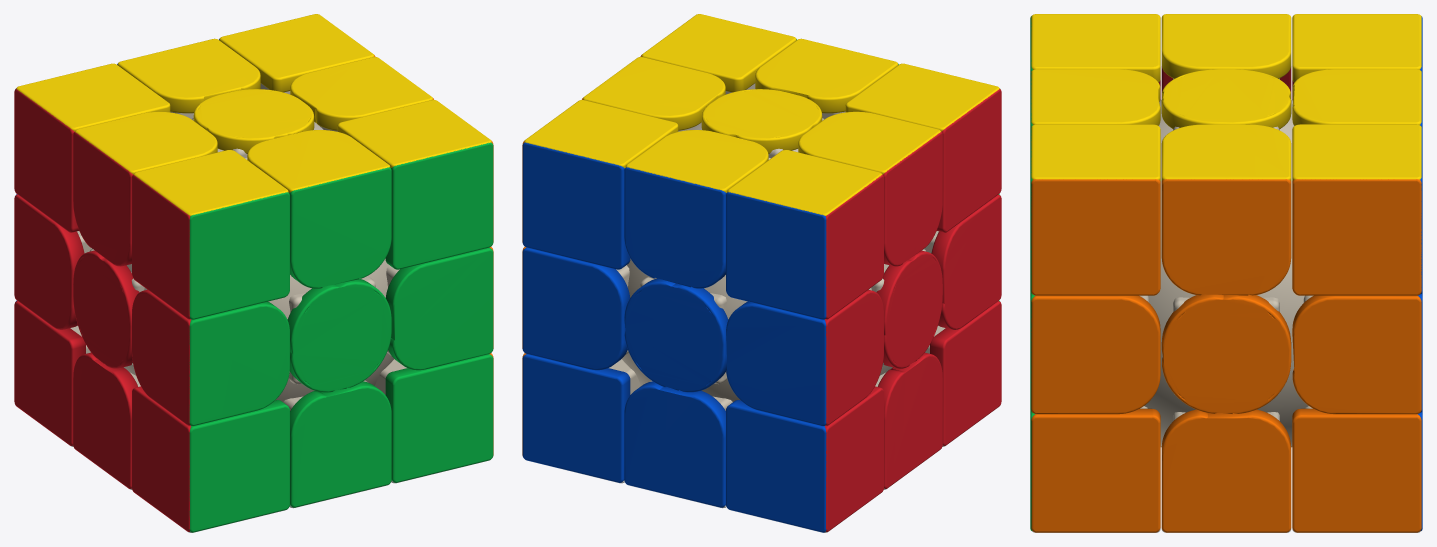
3 renders of one model, left to right at view 1: azimuth 30°, elevation 25°; view 2: azimuth 150°, elevation 25°; view 3: azimuth 270°, elevation 25°, orthographic. The views are drawn at different scales.
Visible parts, largest first — view 1: piece_-1,1,1, piece_-1,-1,1, piece_1,1,1, piece_-1,0,1, piece_0,1,1, piece_-1,1,-1, piece_1,-1,1, piece_-1,1,0, piece_1,0,1, piece_0,-1,1, piece_0,0,1, piece_-1,-1,-1 (+8 smaller); view 2: piece_-1,1,-1, piece_-1,-1,-1, piece_1,1,-1, piece_-1,0,-1, piece_0,1,-1, piece_-1,1,1, piece_1,-1,-1, piece_-1,1,0, piece_1,0,-1, piece_0,-1,-1, piece_0,0,-1, piece_-1,-1,1 (+8 smaller); view 3: piece_1,1,-1, piece_1,1,1, piece_1,1,0, piece_1,-1,1, piece_1,-1,-1, piece_1,-1,0, piece_1,0,1, piece_1,0,-1, piece_1,0,0, piece_-1,1,0, piece_-1,1,-1, piece_-1,1,1 (+4 smaller).
Part boxes in pixels (<box>): piece_-1,1,1: <box>132,150,289,319</box>; piece_-1,-1,1: <box>132,386,289,532</box>; piece_1,1,1: <box>337,100,493,269</box>; piece_-1,0,1: <box>132,289,289,425</box>; piece_0,1,1: <box>247,130,391,288</box>; piece_-1,1,-1: <box>14,63,170,232</box>; piece_1,-1,1: <box>375,353,493,483</box>; piece_-1,1,0: <box>73,111,217,266</box>; piece_1,0,1: <box>385,247,493,370</box>; piece_0,-1,1: <box>283,380,391,508</box>; piece_0,0,1: <box>287,277,391,392</box>; piece_-1,-1,-1: <box>14,300,90,446</box>; piece_-1,1,-1: <box>726,150,883,319</box>; piece_-1,-1,-1: <box>726,386,883,532</box>; piece_1,1,-1: <box>522,100,678,269</box>; piece_-1,0,-1: <box>726,289,883,425</box>; piece_0,1,-1: <box>624,130,768,288</box>; piece_-1,1,1: <box>845,63,1001,232</box>; piece_1,-1,-1: <box>522,353,640,483</box>; piece_-1,1,0: <box>798,111,942,266</box>; piece_1,0,-1: <box>522,247,630,370</box>; piece_0,-1,-1: <box>624,380,732,508</box>; piece_0,0,-1: <box>624,277,728,392</box>; piece_-1,-1,1: <box>925,300,1001,446</box>; piece_1,1,-1: <box>1292,124,1422,295</box>; piece_1,1,1: <box>1030,124,1160,295</box>; piece_1,1,0: <box>1161,124,1291,295</box>; piece_1,-1,1: <box>1030,406,1160,532</box>; piece_1,-1,-1: <box>1292,406,1422,532</box>; piece_1,-1,0: <box>1161,409,1291,532</box>; piece_1,0,1: <box>1030,292,1160,414</box>; piece_1,0,-1: <box>1292,292,1422,414</box>; piece_1,0,0: <box>1161,294,1291,414</box>; piece_-1,1,0: <box>1161,14,1291,98</box>; piece_-1,1,-1: <box>1292,14,1422,99</box>; piece_-1,1,1: <box>1030,14,1160,99</box>.
Bounding box in the file's own units: 2 × 2 × 2.
